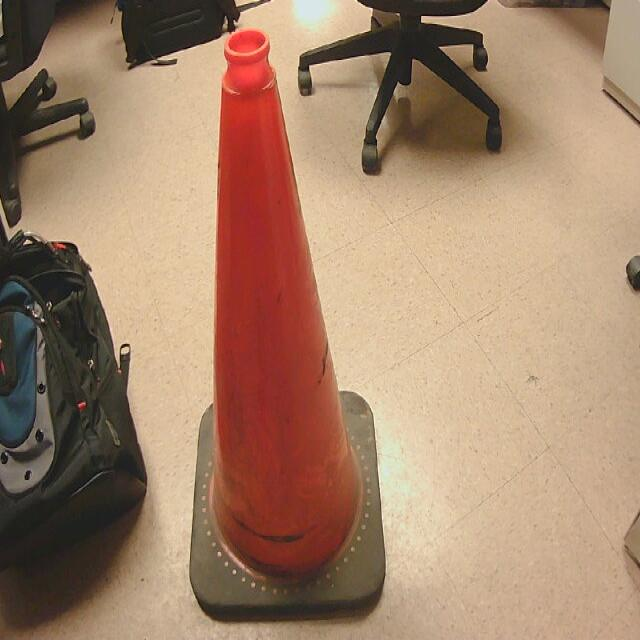traffic cone: (190, 29, 387, 626)
